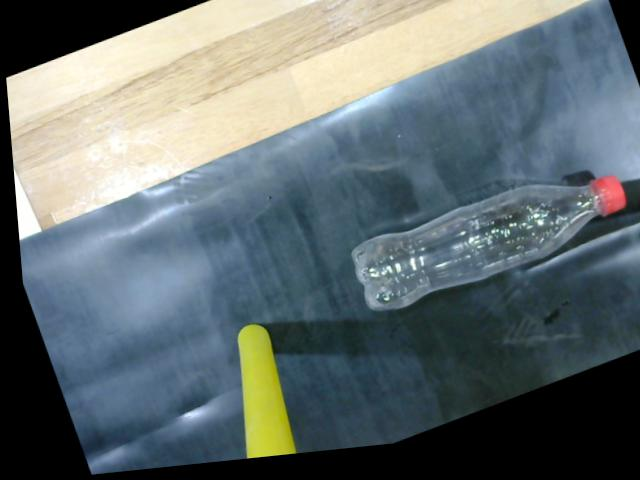bottle: (341, 176, 636, 323)
